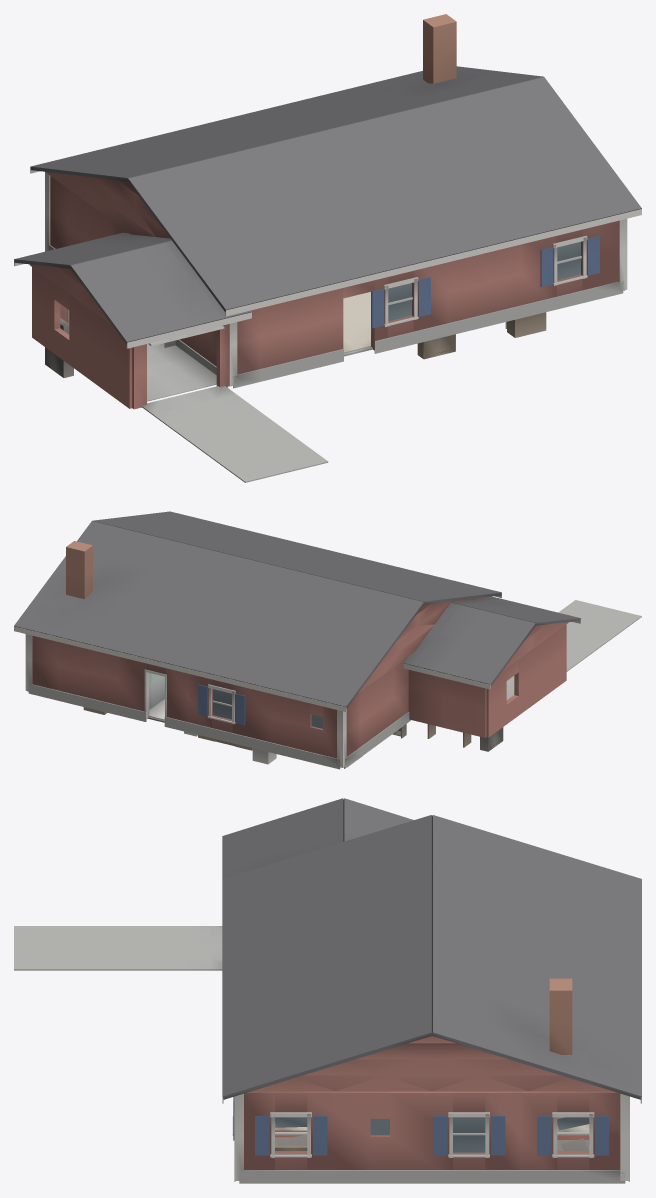
The model's file is casa_us_4.glb.
The picture shows the model from 3 angles, top to bottom: view 1: azimuth 30°, elevation 25°; view 2: azimuth 150°, elevation 25°; view 3: azimuth 270°, elevation 25°; orthographic projection. The views are drawn at different scales.
Visible parts, largest first — view 1: longe, ext, detalhe, dentro, guarda_roupa_quarto14, estante_sala6; view 2: longe, ext, detalhe, dentro; view 3: longe, ext, detalhe, dentro.
Part boxes in pixels (box(x1,y1,x2,y2)): longe: box(14, 66, 641, 482); ext: box(29, 14, 627, 409); detalhe: box(67, 235, 599, 346); dentro: box(147, 292, 372, 401); guarda_roupa_quarto14: box(505, 312, 546, 337); estante_sala6: box(417, 334, 455, 359); longe: box(14, 511, 641, 711); ext: box(25, 541, 568, 769); detalhe: box(83, 669, 471, 767); dentro: box(147, 673, 514, 722); longe: box(14, 798, 641, 1103); ext: box(234, 978, 629, 1183); detalhe: box(232, 1097, 609, 1157); dentro: box(275, 1117, 589, 1144).
Size of what is drawn, in the model's own units: 19.8 by 7.04 by 19.52.
